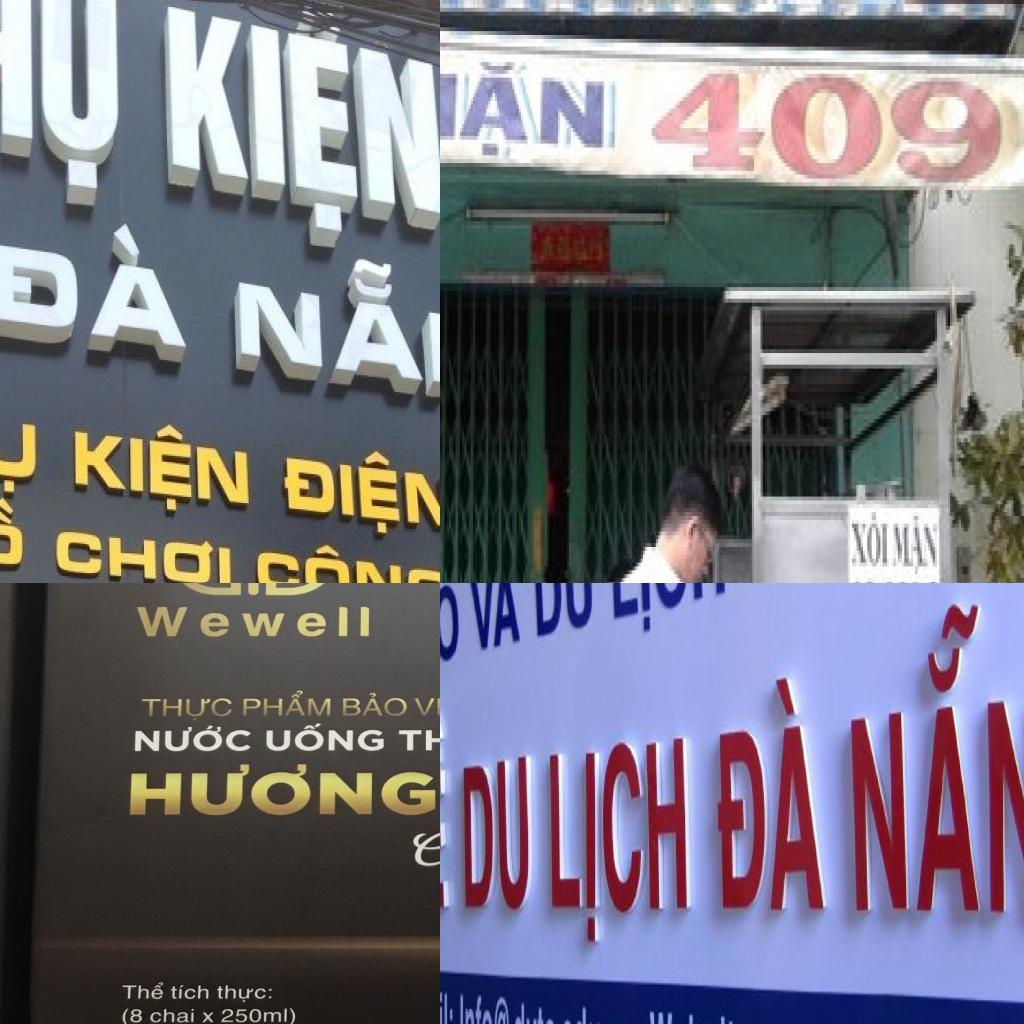text: (143, 0, 440, 259), (837, 597, 1024, 924), (216, 240, 440, 430), (0, 203, 211, 379), (546, 732, 695, 958), (711, 650, 833, 918), (0, 0, 129, 221), (440, 42, 621, 178), (64, 409, 260, 518), (273, 434, 440, 551), (123, 762, 440, 817), (42, 506, 242, 583), (460, 751, 534, 914), (247, 521, 440, 583), (134, 603, 374, 638), (603, 583, 730, 644), (455, 989, 638, 1024), (462, 583, 527, 660), (0, 396, 46, 504), (525, 583, 598, 650), (128, 722, 256, 755), (262, 722, 388, 753), (643, 995, 764, 1024), (891, 512, 944, 578), (0, 489, 37, 583), (237, 688, 335, 720), (440, 583, 467, 689), (137, 695, 237, 722), (850, 508, 891, 570), (340, 689, 409, 719), (393, 721, 440, 755), (214, 981, 275, 1004), (118, 978, 166, 1002), (410, 688, 440, 722), (168, 981, 213, 1003), (147, 1007, 197, 1024), (118, 1005, 145, 1024), (199, 1008, 217, 1024)
